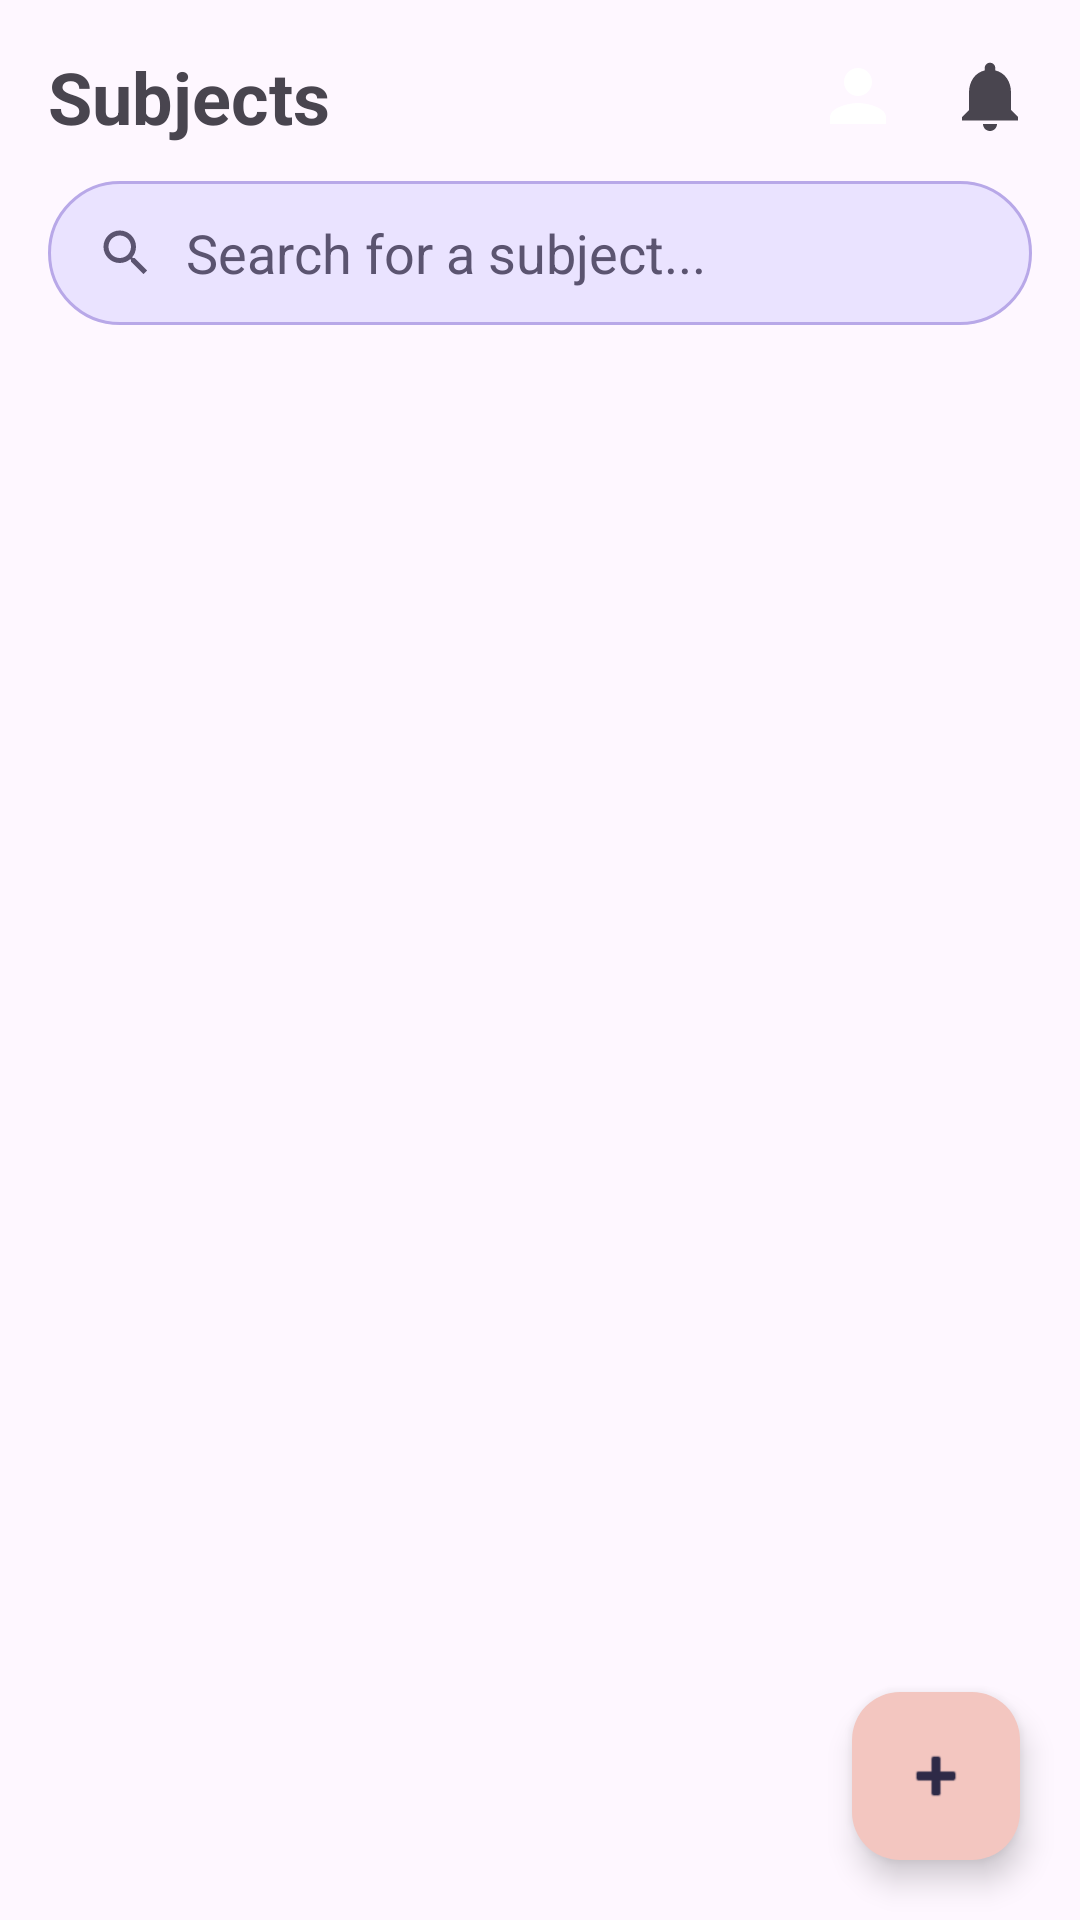

Where to tap for icons on this 1080 × 1920 app screen, as point (x, y):
Add subject: point (936, 1776)
Notifications: point (990, 96)
